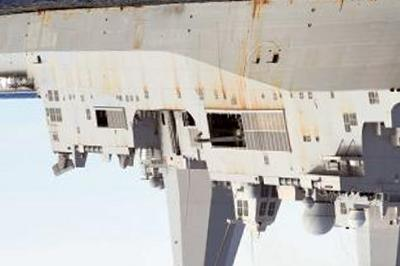rust: (216, 74, 259, 104), (295, 112, 319, 138), (250, 1, 273, 18), (35, 11, 54, 22)
